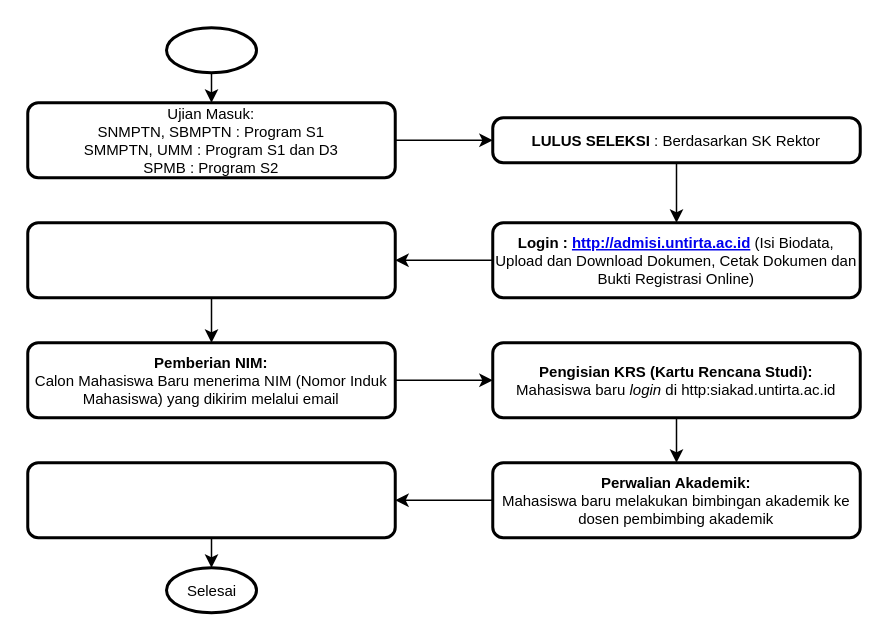
The diagram is 887 pixels wide and 639 high, and some of its shapes have lost their labels. The centre of each missing label's shape, as x and y in pixels:
Bank BNI: Calon Mahasiswa Baru Membayar UKT/SPP: pixel 211 259
Mulai: pixel 210 50
Perkuliahan: Mahasiswa baru melakukan perkuliahan sesuai jadwal pada KRS: pixel 211 499
